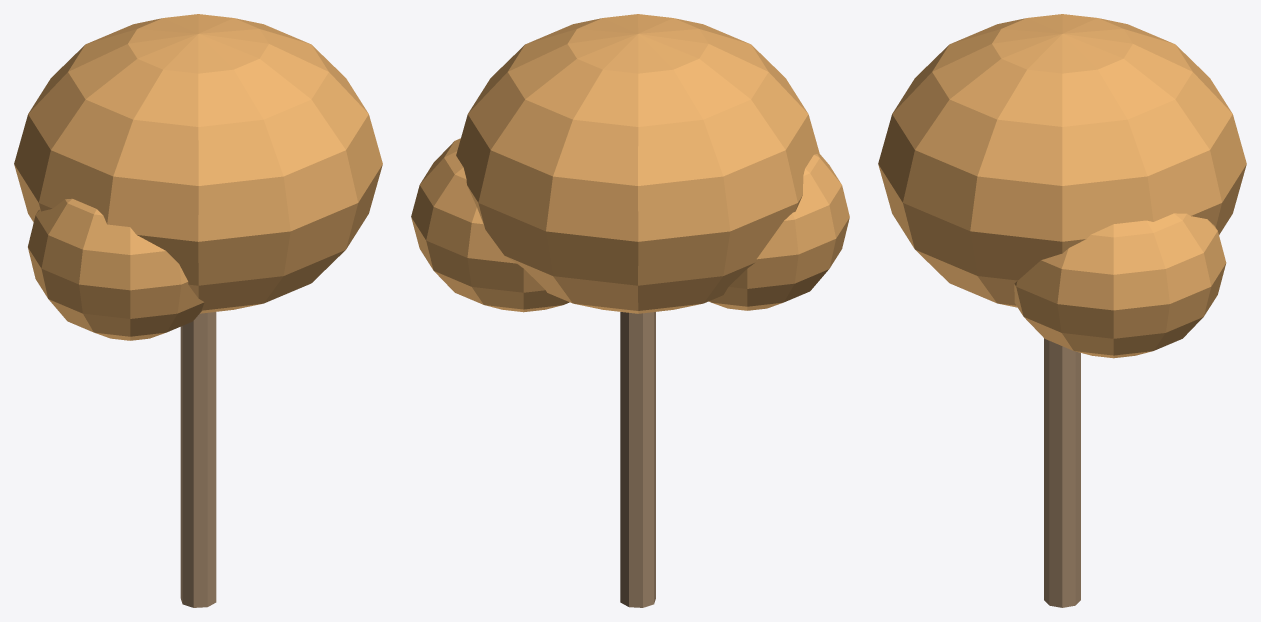
File: sugar_maple.glb
3 views of the same model, side by side, from view 1: azimuth 30°, elevation 25°; view 2: azimuth 150°, elevation 25°; view 3: azimuth 270°, elevation 25° (orthographic).
Parts seen in each view (by area): view 1: canopy1, canopy3, trunk; view 2: canopy1, canopy2, trunk, canopy3; view 3: canopy1, canopy2, trunk.
Boxes of the visible parts, x1,y1,x2,y2 form: canopy1: [14, 14, 382, 313]; canopy3: [28, 198, 204, 340]; trunk: [180, 312, 216, 607]; canopy1: [456, 14, 820, 313]; canopy2: [411, 138, 569, 312]; trunk: [620, 312, 655, 607]; canopy3: [709, 154, 849, 310]; canopy1: [878, 14, 1246, 307]; canopy2: [1014, 213, 1226, 358]; trunk: [1044, 338, 1080, 607].
Size of the model in its own units: 4.1 by 6.1 by 3.6.
